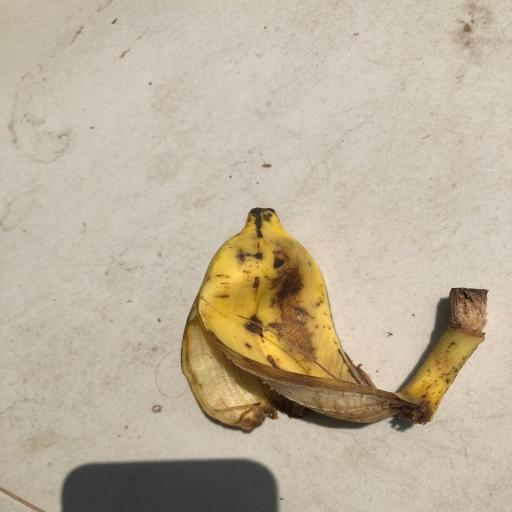waste: (165, 195, 512, 441)
